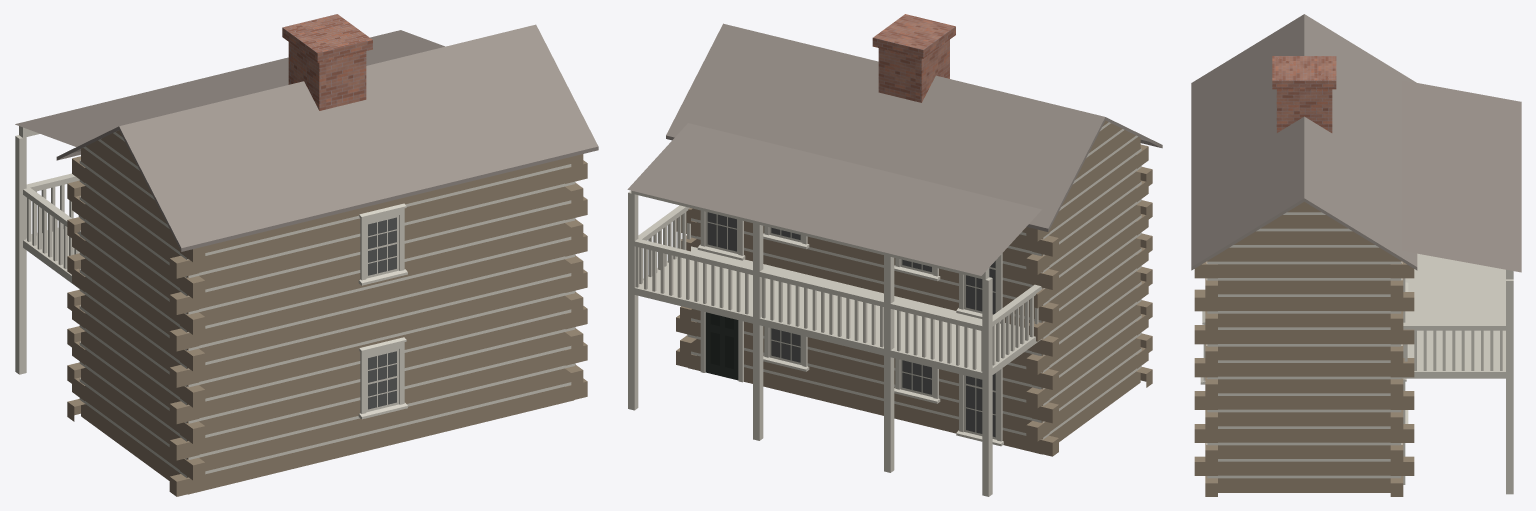
The model's file is first_fort_dearborn_north_range__first_fort_1803.glb.
3 renders of one model, left to right at view 1: azimuth 30°, elevation 25°; view 2: azimuth 150°, elevation 25°; view 3: azimuth 270°, elevation 25°, orthographic. The views are drawn at different scales.
Parts seen in each view (by area): view 1: first_fort_dearborn_north_range__first_fort_1803; view 2: first_fort_dearborn_north_range__first_fort_1803; view 3: first_fort_dearborn_north_range__first_fort_1803.
Boxes of the visible parts, x1,y1,x2,y2 form: first_fort_dearborn_north_range__first_fort_1803: [15, 14, 598, 496]; first_fort_dearborn_north_range__first_fort_1803: [627, 14, 1162, 496]; first_fort_dearborn_north_range__first_fort_1803: [1191, 14, 1521, 496].
Bounding box in the file's own units: 8.16 × 7 × 6.18.
Materials: 7 (1 with a texture image).
